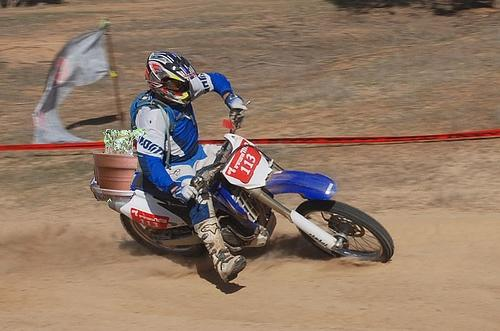tampered: (90, 129, 148, 202)
